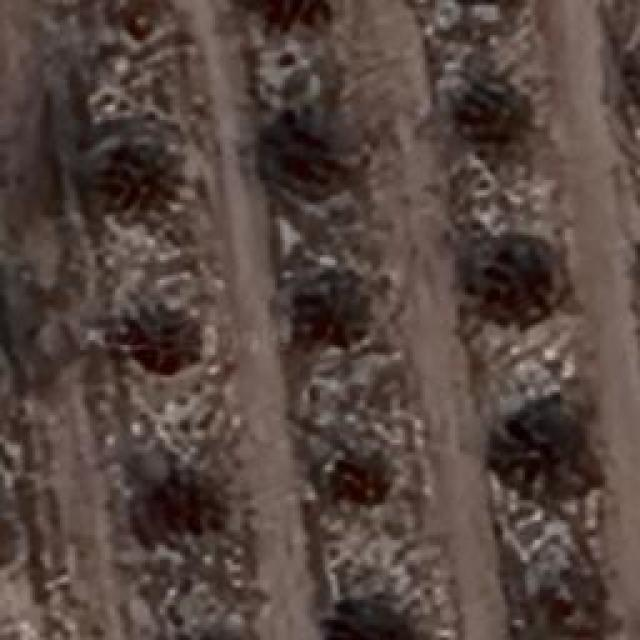PalmTree: (95, 83, 555, 599), (76, 81, 162, 332), (244, 110, 374, 205), (491, 417, 591, 505), (478, 242, 562, 326), (150, 466, 240, 536), (292, 281, 386, 344), (465, 82, 533, 138), (329, 458, 399, 510), (110, 151, 178, 204), (326, 602, 404, 640), (240, 0, 339, 27), (172, 618, 254, 640), (248, 0, 339, 17), (168, 624, 255, 640)
